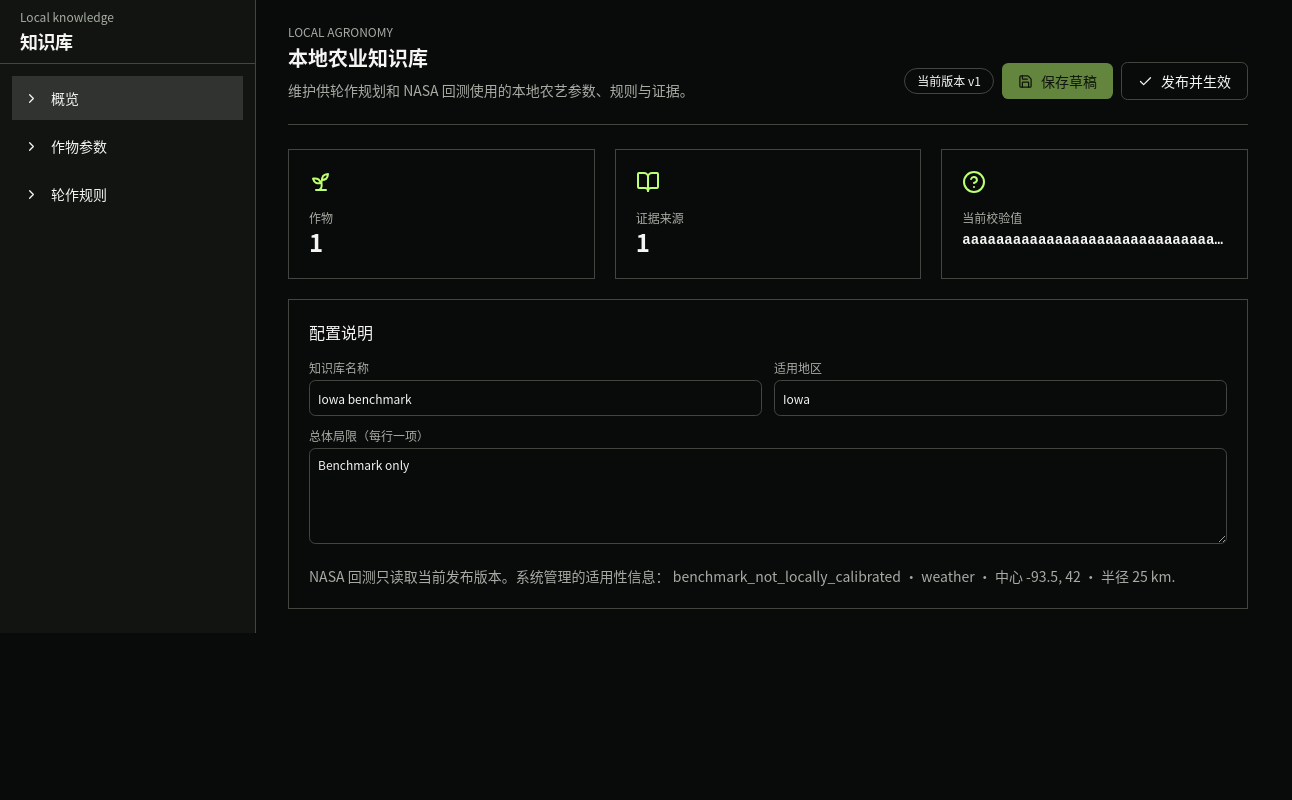
Test: edits and saves a personal agronomy draft
Replace the text in the field showing "Iowa benchmark" with "My farm knowledge". click: (536, 398)
box: [309, 380, 762, 416]
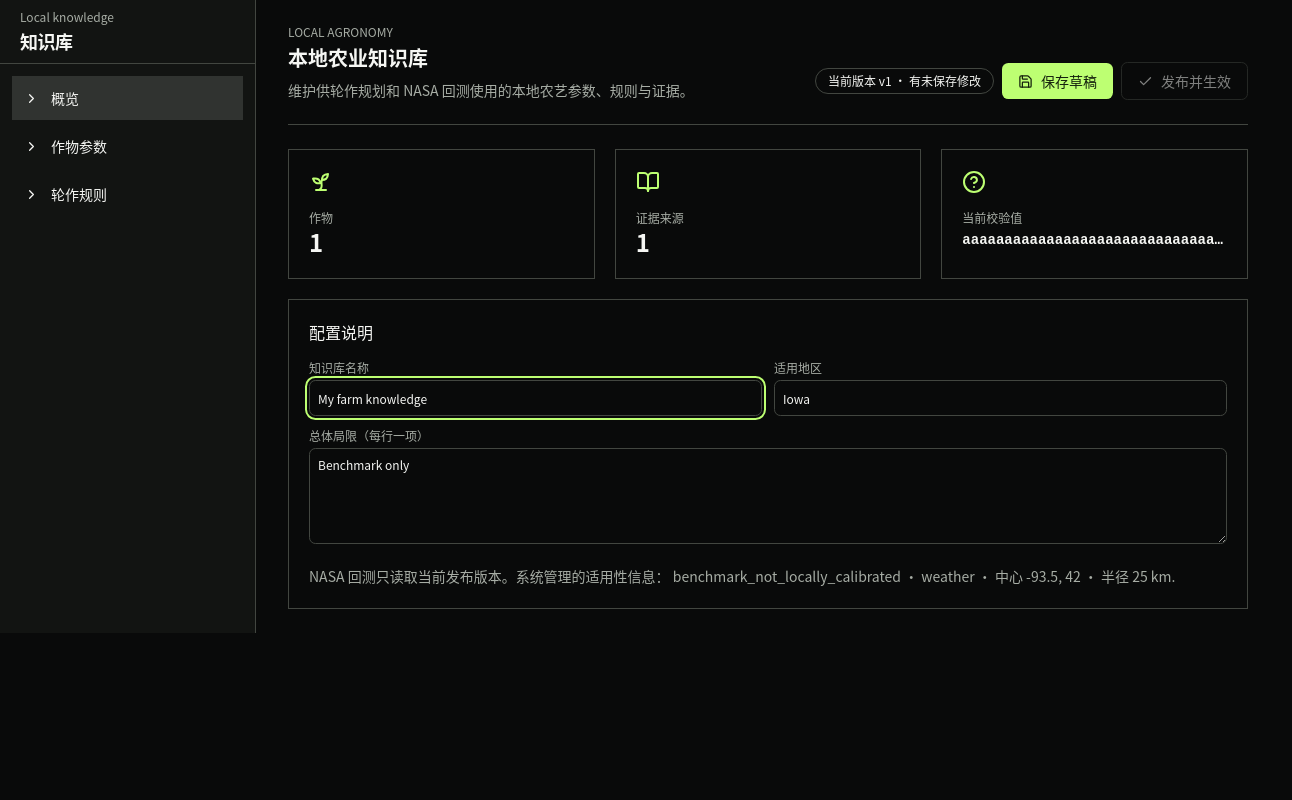
Click the button "保存草稿". click: (1058, 81)
box: [1002, 63, 1113, 99]
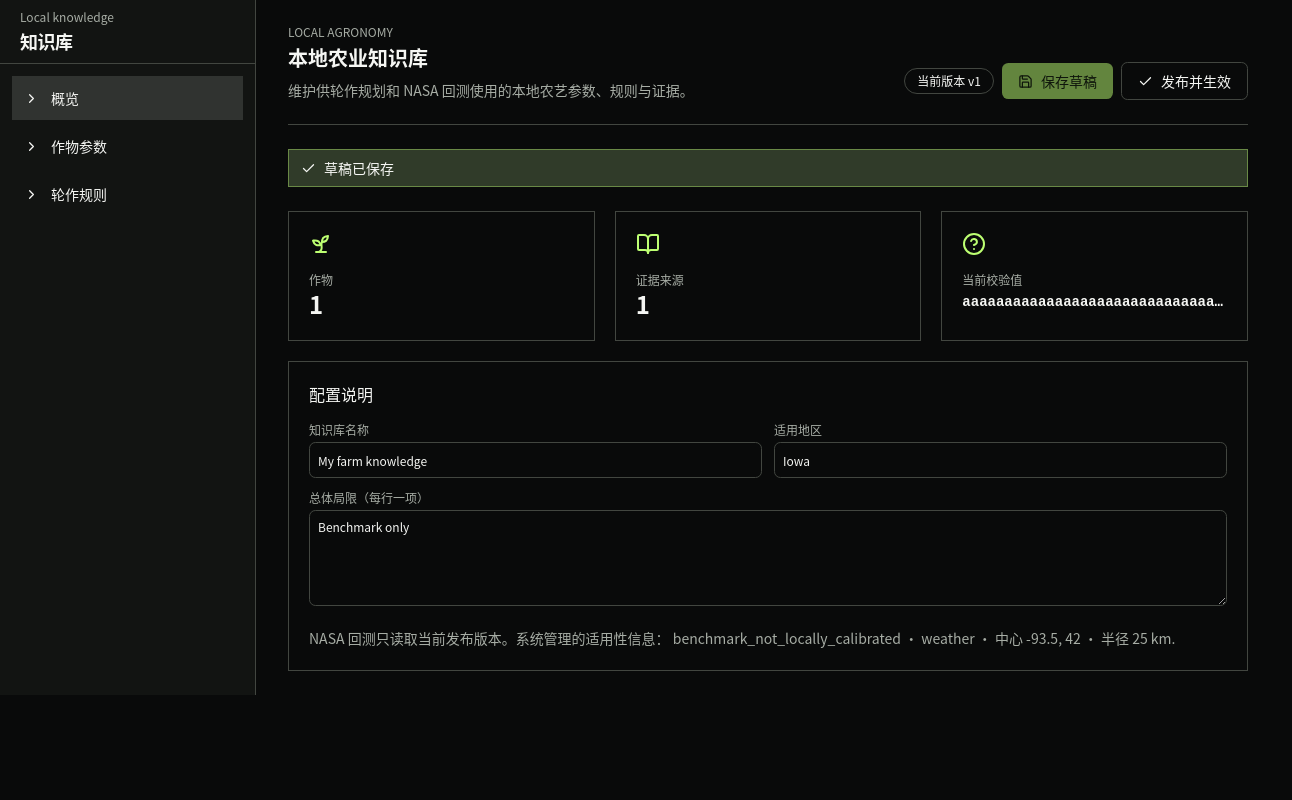
expect the text "草稿已保存" is shown: met, box [288, 149, 1248, 187]
